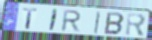B: (103, 11, 126, 36)
I: (48, 8, 59, 32), (93, 11, 102, 35)
R: (125, 12, 148, 38), (60, 10, 83, 33)
T: (23, 7, 39, 30)
